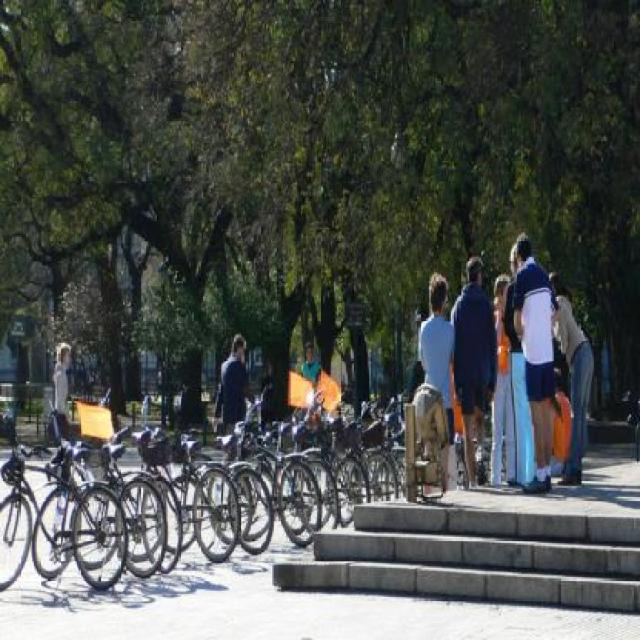obstacle: (419, 228, 593, 494), (41, 340, 74, 498), (213, 330, 245, 428), (255, 353, 279, 436), (300, 340, 325, 398), (156, 363, 164, 402), (340, 372, 345, 397)
